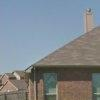Chimney: (79, 5, 99, 48)
